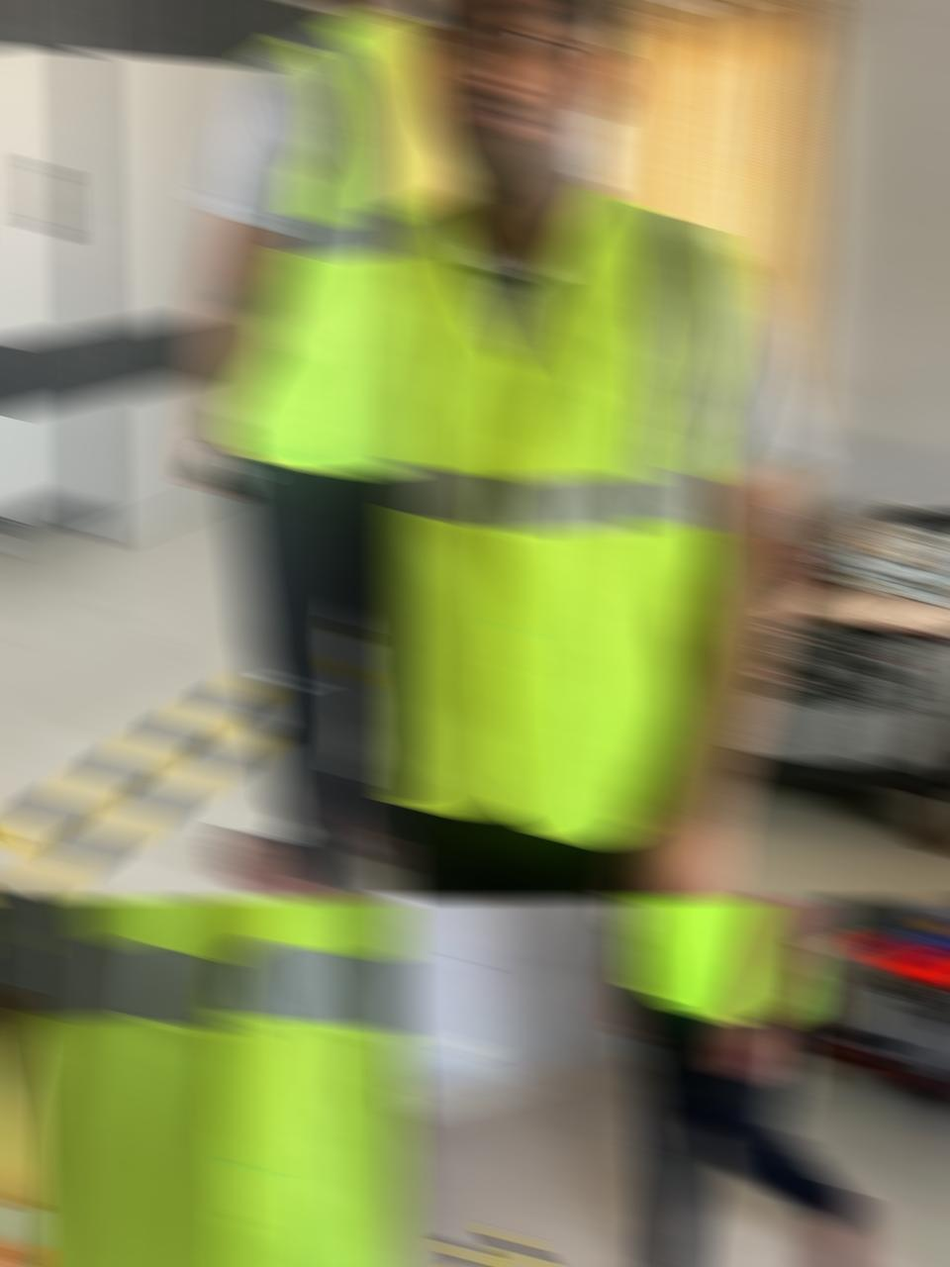BorderLine: (0, 619, 371, 901)
No_Helmet: (409, 0, 632, 210)
Person: (389, 0, 827, 901), (178, 0, 409, 901), (0, 896, 409, 1267), (588, 896, 872, 1267)
Vest: (389, 186, 746, 849), (0, 896, 409, 1267), (221, 5, 409, 479), (626, 896, 842, 1025)
